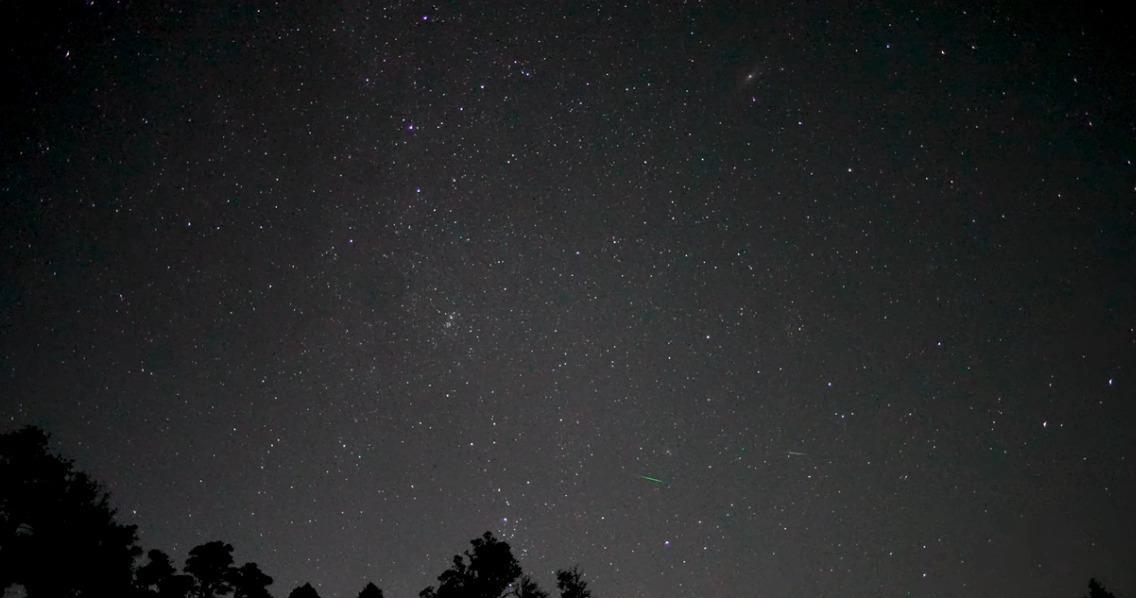meteorite: (615, 468, 681, 489), (781, 446, 811, 461)
